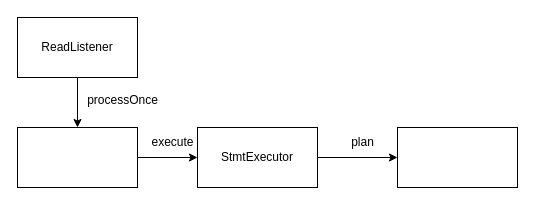
This 535x205 diagram has some shape labels left out. The centre of each missing label's shape, as x and y in pixels:
"ConnectProcessor" goes at (77,157).
"StatementPlaner" goes at (457,157).
